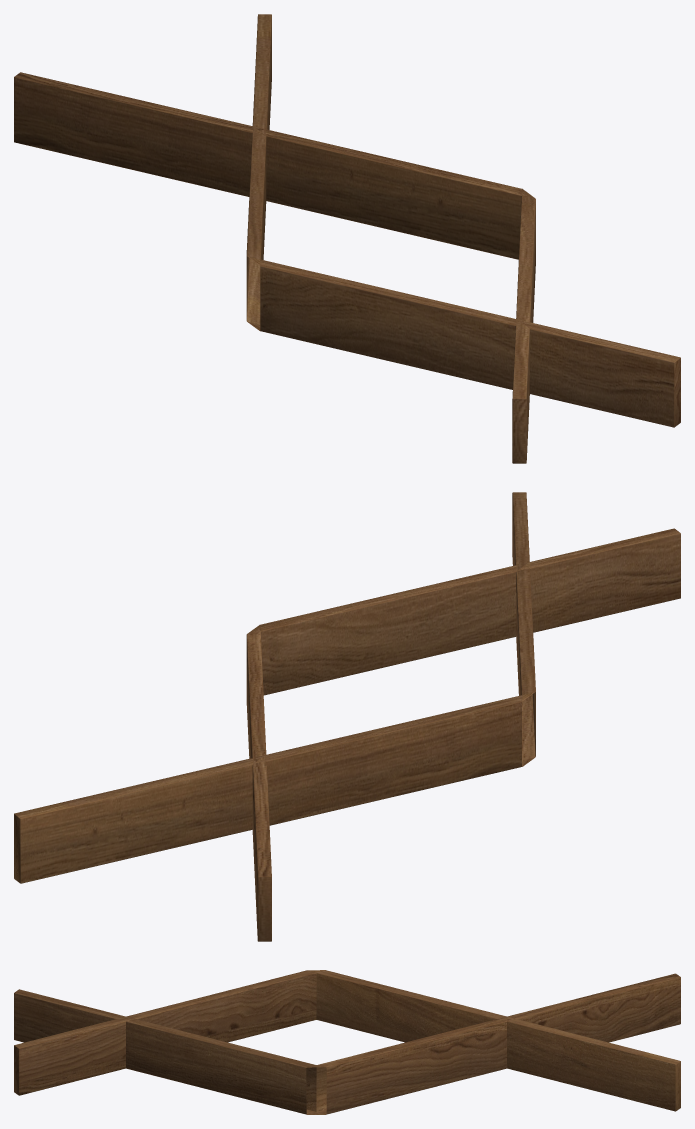
File: Base_Traverse.gltf
3 views of the same model, one above another, from view 1: azimuth 30°, elevation 25°; view 2: azimuth 150°, elevation 25°; view 3: azimuth 270°, elevation 25° (orthographic). The views are drawn at different scales.
Visible parts, largest first — view 1: Base_Traverse; view 2: Base_Traverse; view 3: Base_Traverse.
Boxes of the visible parts, bbox=[...] form: Base_Traverse: bbox=[14, 14, 680, 463]; Base_Traverse: bbox=[14, 492, 680, 941]; Base_Traverse: bbox=[14, 970, 680, 1114].
Bounding box in the file's own units: 0.4118 × 0.0938 × 1.19.
Materials: 1 (1 with a texture image).
